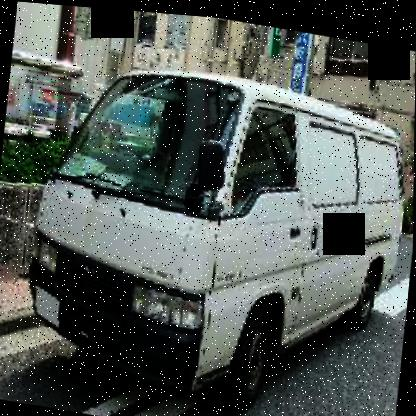not_emergency: (6, 24, 415, 415)
